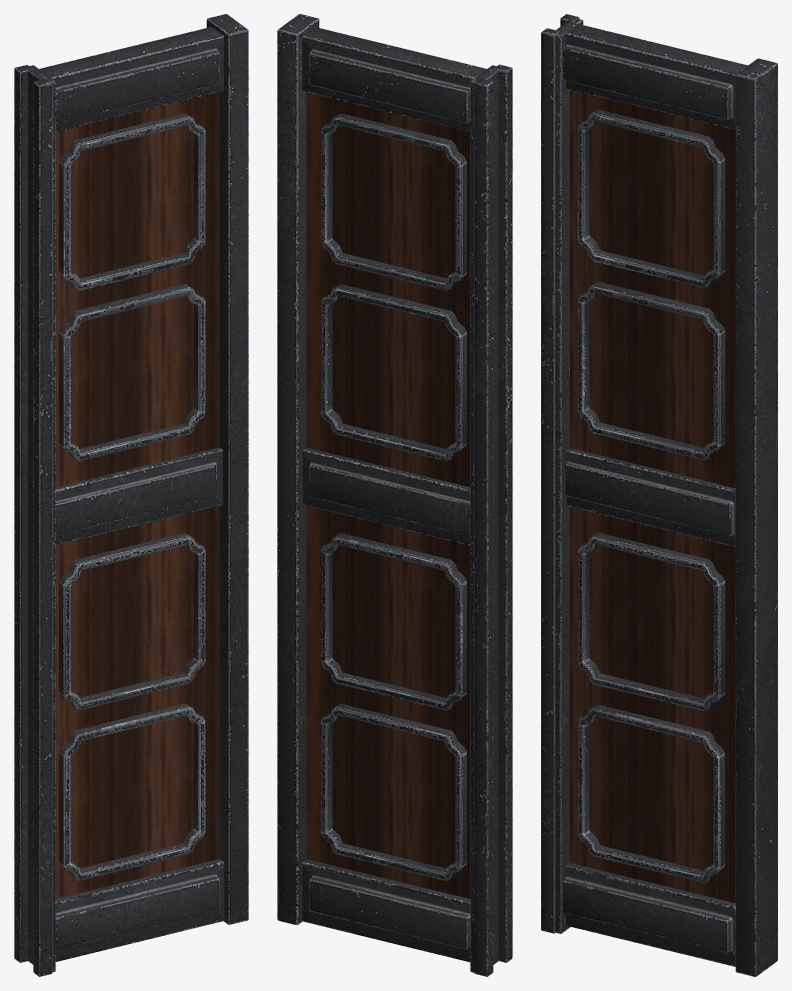
The model's file is Door_B_right.fbx.
3 views of the same model, side by side, from view 1: azimuth 30°, elevation 25°; view 2: azimuth 150°, elevation 25°; view 3: azimuth 330°, elevation 25° (orthographic).
Visible parts, largest first — view 1: Door_B_right; view 2: Door_B_right; view 3: Door_B_right.
Boxes of the visible parts, x1,y1,x2,y2 form: Door_B_right: (14,14,248,976); Door_B_right: (277,14,512,976); Door_B_right: (541,14,777,976).
Bounding box in the file's own units: 1.12 × 4.52 × 0.2311.
